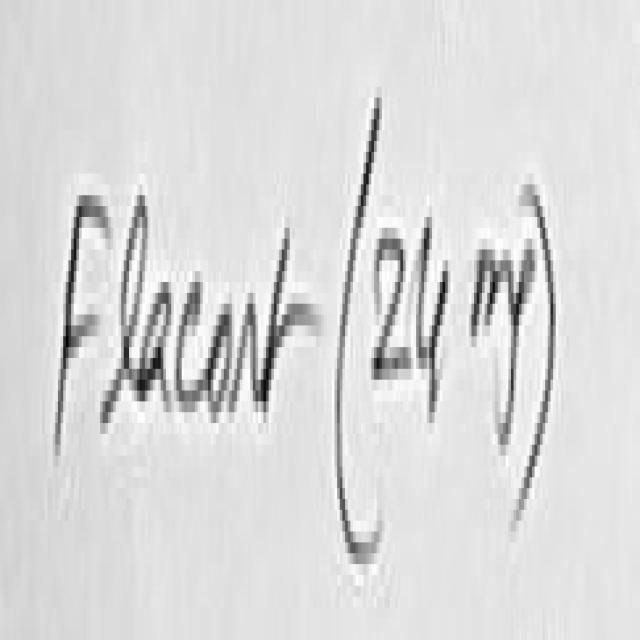2: (374, 239, 413, 374)
4: (419, 217, 450, 423)
F: (55, 195, 111, 450)
a: (137, 282, 171, 412)
c: (176, 282, 205, 412)
g: (500, 249, 537, 445)
l: (103, 195, 147, 423)
m: (474, 249, 516, 331)
o: (208, 304, 232, 423)
r: (229, 293, 261, 407)
t: (261, 228, 319, 412)
